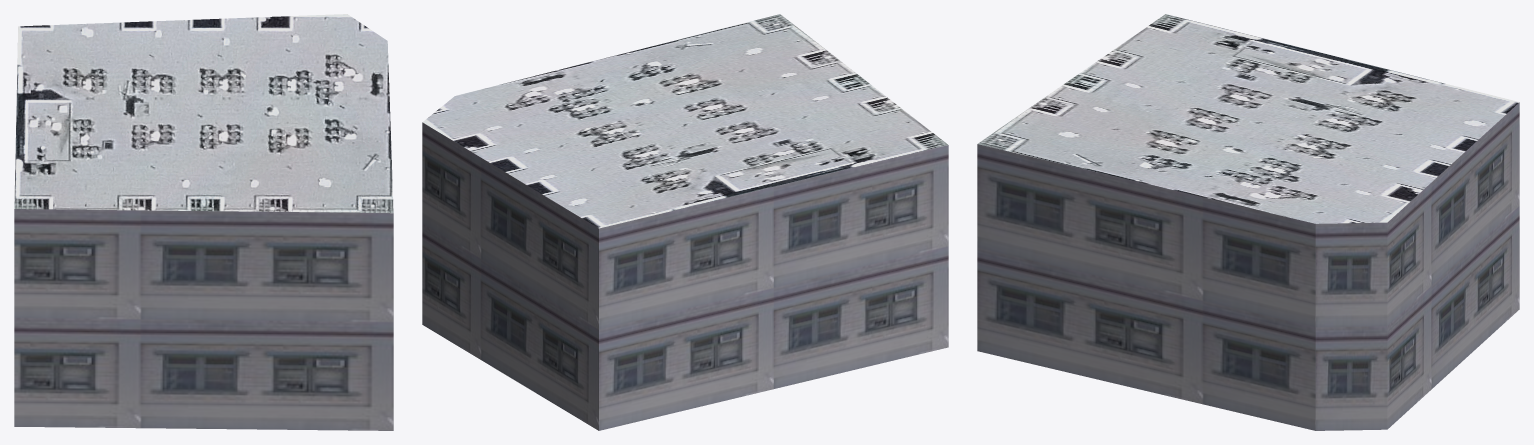
Rendered from ResTex__761.fbx.
The picture shows the model from 3 angles, left to right: view 1: azimuth 30°, elevation 25°; view 2: azimuth 150°, elevation 25°; view 3: azimuth 270°, elevation 25°; orthographic projection. The views are drawn at different scales.
Parts seen in each view (by area): view 1: CityEngineMaterial_1_m, CityEngineMaterial_m; view 2: CityEngineMaterial_1_m, CityEngineMaterial_m; view 3: CityEngineMaterial_1_m, CityEngineMaterial_m.
Part boxes in pixels (left/top/right/bottom): CityEngineMaterial_1_m: left=14, top=209, right=393, bottom=430; CityEngineMaterial_m: left=14, top=14, right=393, bottom=213; CityEngineMaterial_1_m: left=422, top=122, right=948, bottom=430; CityEngineMaterial_m: left=422, top=14, right=947, bottom=228; CityEngineMaterial_1_m: left=977, top=102, right=1519, bottom=430; CityEngineMaterial_m: left=978, top=14, right=1519, bottom=223.
Bounding box in the file's own units: 13.04 × 6 × 14.24.
2 materials, 2 textured.
